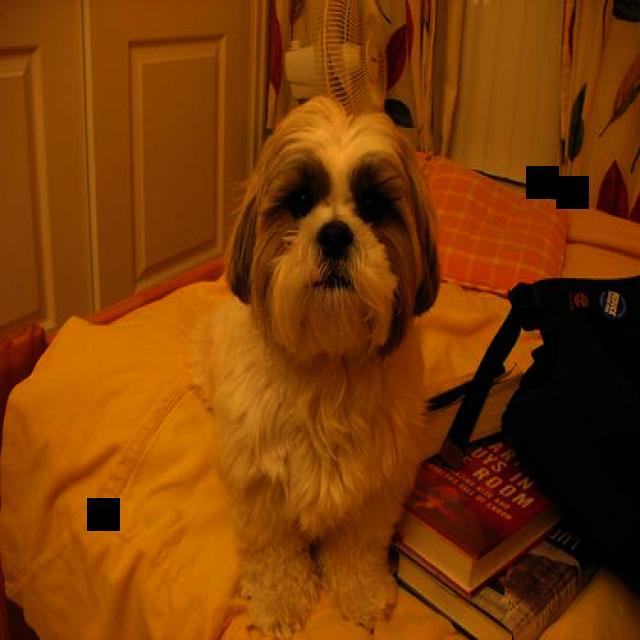adult_dog: (191, 91, 440, 638)
